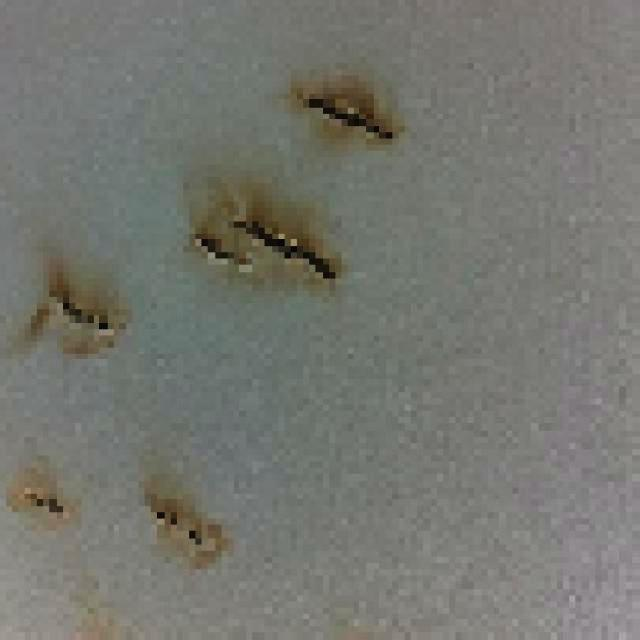crack: (235, 223, 330, 277), (43, 289, 122, 337), (312, 103, 392, 137), (194, 237, 251, 271)
